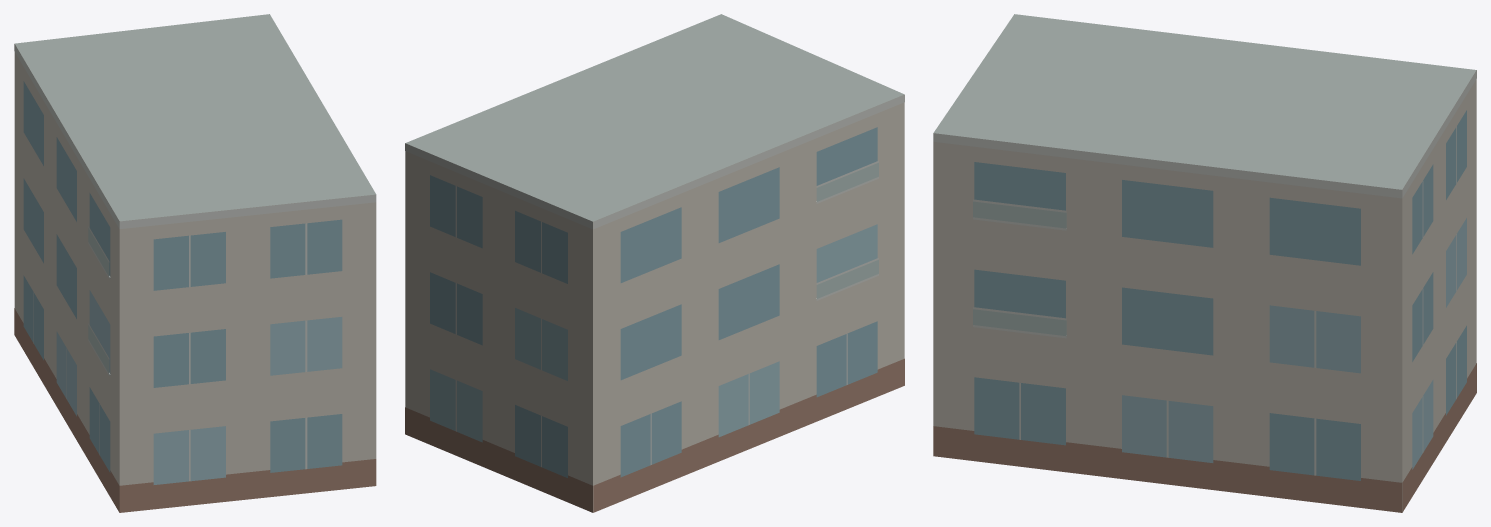
The model's file is survey-upis-32810960.glb.
3 views of the same model, side by side, from view 1: azimuth 30°, elevation 25°; view 2: azimuth 150°, elevation 25°; view 3: azimuth 270°, elevation 25° (orthographic). The views are drawn at different scales.
Parts seen in each view (by area): view 1: survey-upis-32810960.tmp; view 2: survey-upis-32810960.tmp; view 3: survey-upis-32810960.tmp.
Part boxes in pixels (x1,y1,x2,y2): survey-upis-32810960.tmp: (14,14,376,512); survey-upis-32810960.tmp: (405,14,904,512); survey-upis-32810960.tmp: (933,14,1476,512).
Bounding box in the file's own units: 10.69 × 9.15 × 13.96.
